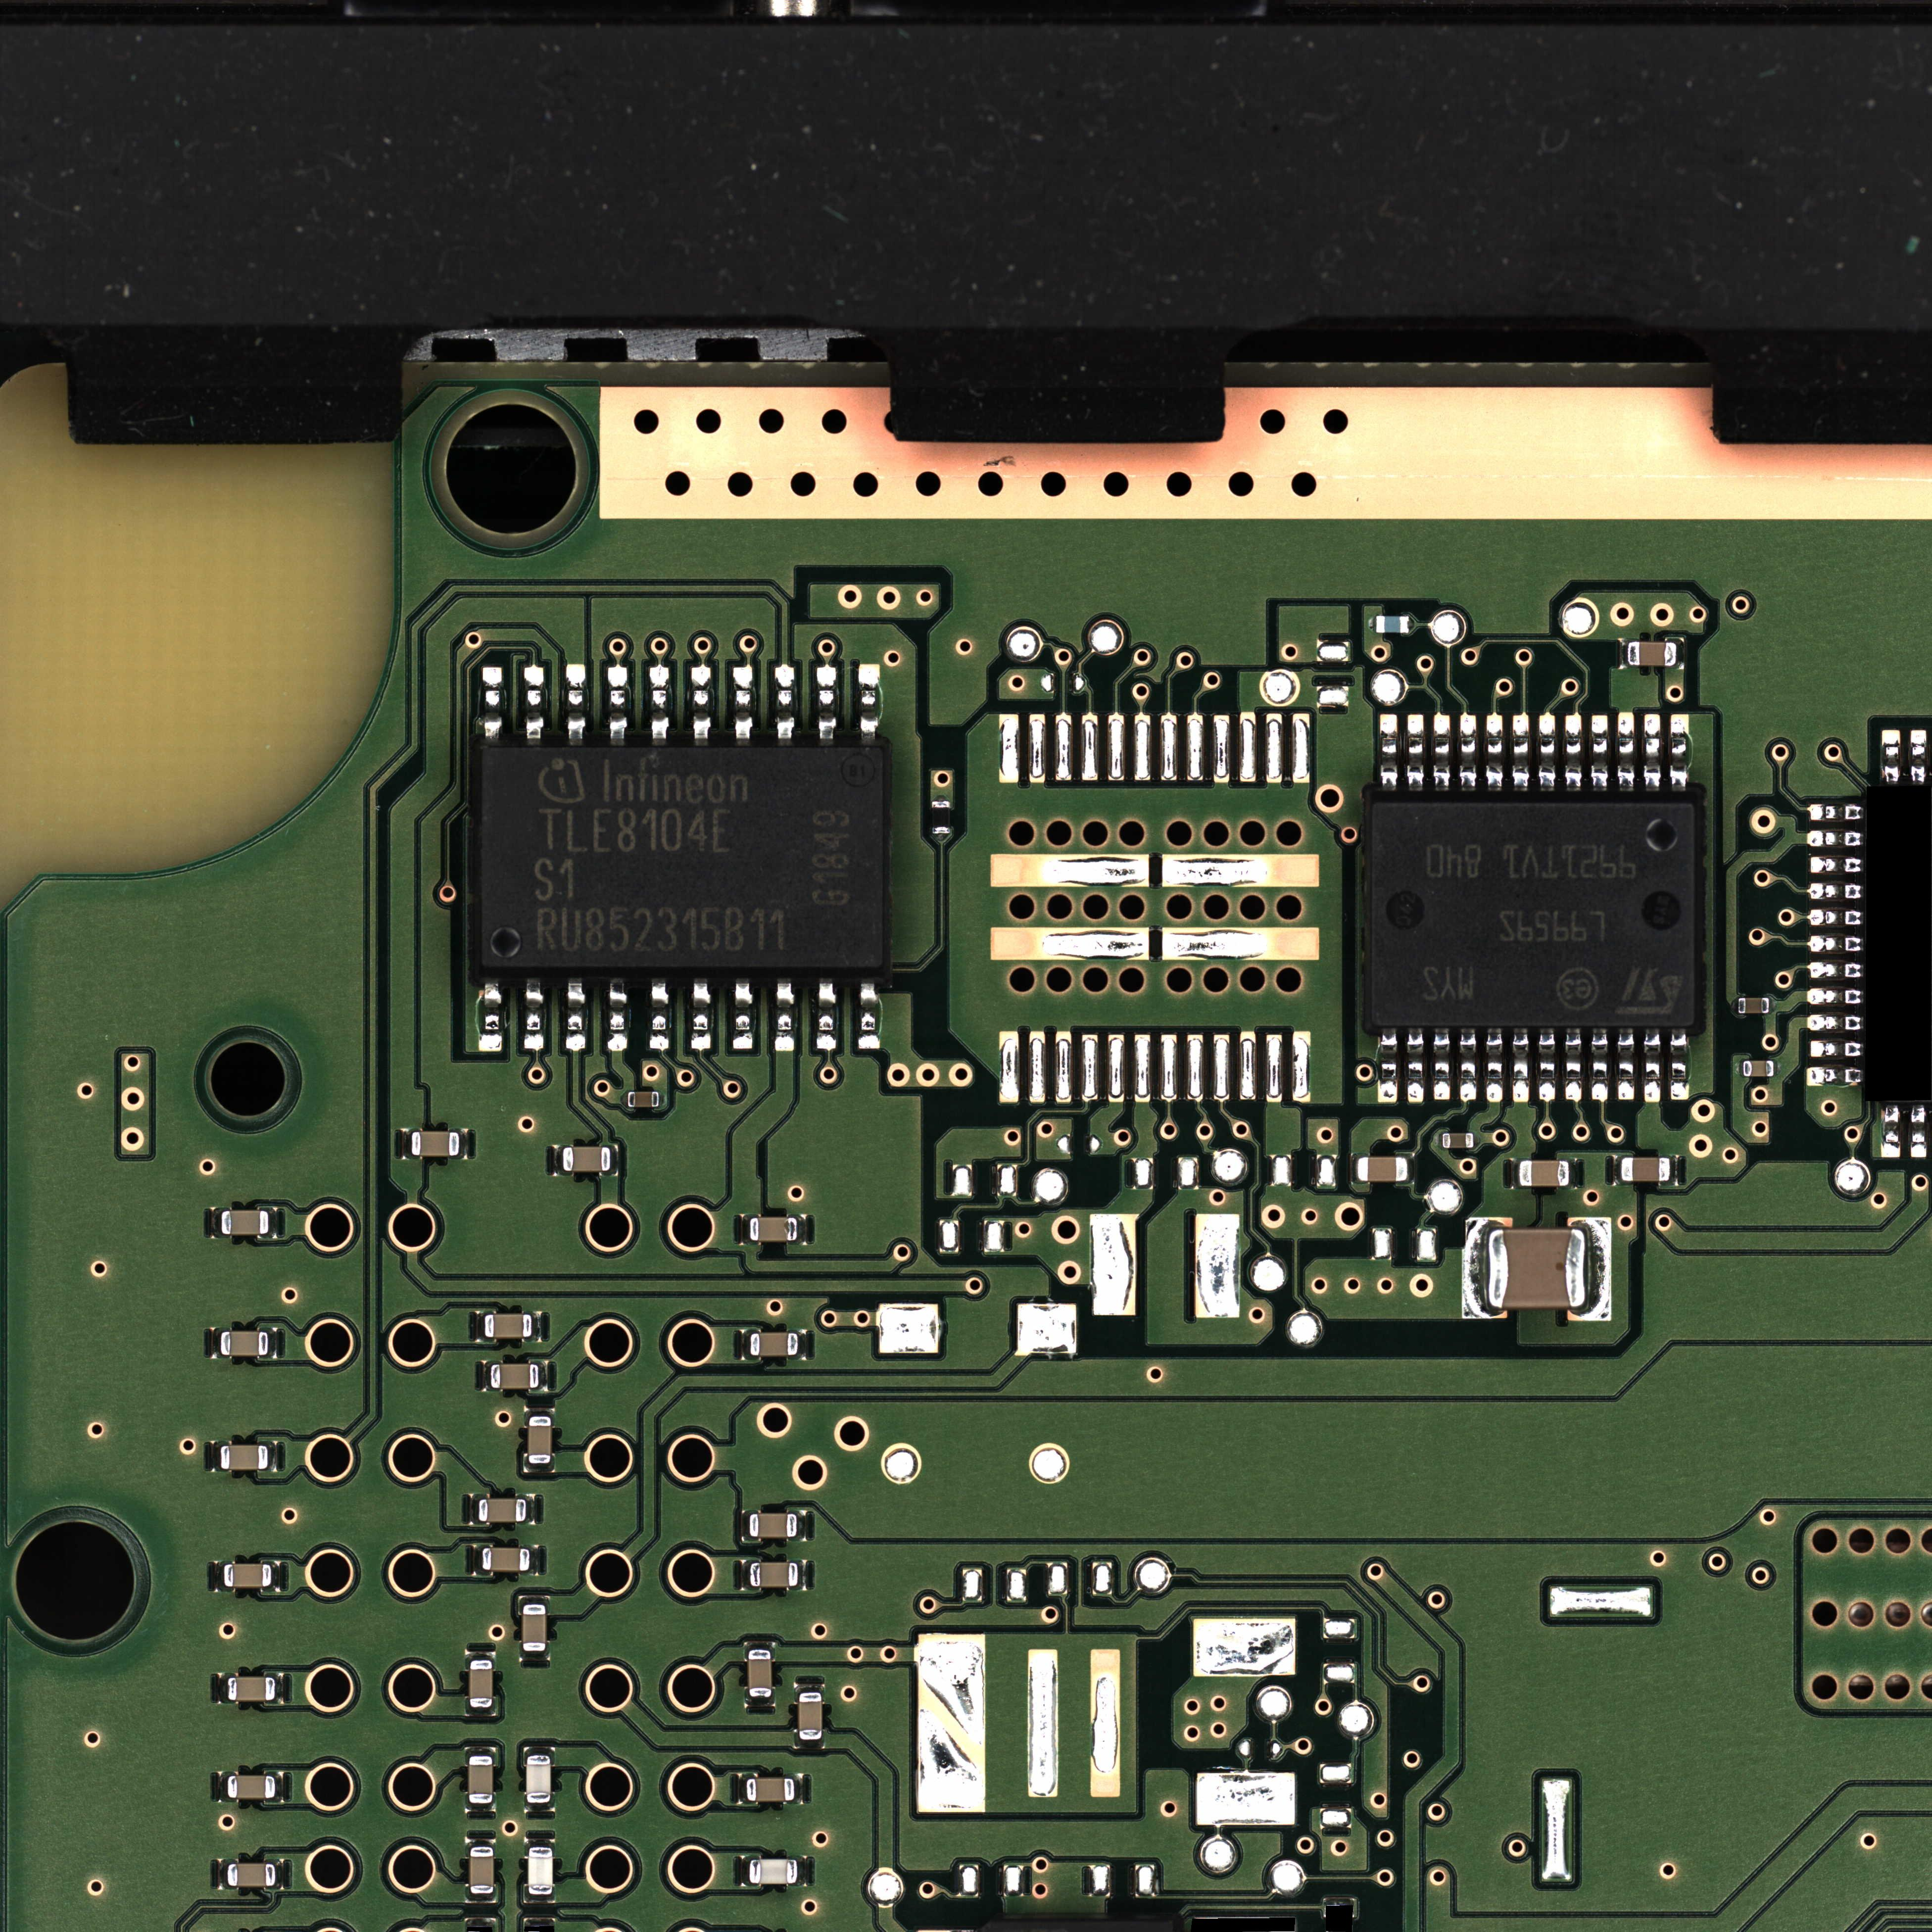Package: (481, 748, 885, 968), (1371, 801, 1695, 1026), (1488, 1228, 1585, 1307), (527, 1847, 554, 1895), (490, 1364, 540, 1389), (1621, 1157, 1670, 1182), (1520, 1161, 1569, 1185), (1359, 1157, 1407, 1182), (525, 1755, 550, 1803), (228, 1775, 276, 1799), (221, 1445, 269, 1470), (221, 1330, 269, 1355), (221, 1210, 269, 1235), (228, 1677, 276, 1702), (748, 1513, 796, 1537), (410, 1131, 458, 1155), (750, 1859, 798, 1884), (750, 1332, 798, 1357), (563, 1146, 610, 1171), (750, 1562, 798, 1587), (228, 1863, 276, 1888), (798, 1691, 823, 1739), (469, 1757, 494, 1803), (750, 1217, 796, 1242), (469, 1847, 494, 1893), (522, 1605, 547, 1651), (527, 1417, 552, 1463), (485, 1315, 533, 1338), (478, 1499, 525, 1522), (469, 1660, 492, 1707), (747, 1778, 794, 1801), (1628, 642, 1675, 665), (483, 1548, 529, 1571), (225, 1564, 271, 1587), (748, 1651, 771, 1697), (932, 801, 950, 833), (1376, 616, 1408, 633), (1737, 998, 1769, 1014), (1442, 1132, 1474, 1148), (628, 1092, 658, 1108), (1743, 1062, 1775, 1076)
Solder: (1587, 1217, 1612, 1322), (1463, 1217, 1488, 1320), (478, 980, 502, 1053), (858, 663, 879, 745), (524, 665, 545, 743), (607, 667, 628, 745), (732, 667, 754, 743), (816, 667, 837, 743), (858, 980, 881, 1049), (1376, 1030, 1398, 1104), (566, 663, 586, 743), (775, 665, 794, 743), (649, 667, 669, 743), (1670, 715, 1690, 791), (692, 667, 711, 743), (607, 982, 628, 1051), (732, 980, 754, 1049), (483, 667, 502, 741), (1617, 711, 1635, 791), (566, 980, 586, 1051), (649, 980, 669, 1051), (817, 980, 837, 1051), (775, 980, 794, 1051), (692, 980, 711, 1051), (1380, 713, 1398, 791), (1460, 713, 1477, 791), (1513, 713, 1530, 791), (1644, 713, 1661, 791), (1670, 1030, 1690, 1100), (1486, 713, 1504, 791), (1407, 715, 1424, 791), (1591, 715, 1608, 791), (1433, 713, 1451, 789), (524, 982, 543, 1051), (1460, 1030, 1477, 1102), (1407, 1030, 1424, 1102), (1644, 1030, 1661, 1102), (1564, 1031, 1582, 1102), (1617, 1030, 1635, 1100), (1433, 1030, 1451, 1100), (1486, 1031, 1504, 1102), (1537, 1031, 1555, 1102), (1591, 1031, 1608, 1102), (1566, 713, 1582, 791), (1539, 713, 1555, 791), (1881, 729, 1902, 786), (1805, 1067, 1863, 1086), (1513, 1031, 1529, 1102), (1881, 1106, 1902, 1159), (1806, 961, 1863, 980), (1806, 934, 1863, 954), (1806, 987, 1863, 1007), (1806, 1014, 1863, 1033), (1806, 1040, 1863, 1060), (1909, 1104, 1928, 1159), (1806, 803, 1865, 821), (1806, 856, 1865, 874), (1806, 830, 1863, 847), (1806, 883, 1863, 901), (1806, 909, 1863, 927), (1909, 729, 1927, 784), (740, 1560, 750, 1591), (1509, 1159, 1520, 1189), (522, 1895, 556, 1904), (465, 1918, 499, 1927), (524, 1803, 556, 1812), (465, 1895, 497, 1904), (465, 1746, 497, 1755), (524, 1746, 556, 1755), (533, 1311, 541, 1343), (741, 1214, 750, 1246), (794, 1773, 803, 1805), (476, 1311, 485, 1343), (212, 1207, 221, 1238), (465, 1707, 495, 1716), (525, 1838, 556, 1847), (465, 1838, 495, 1847), (1619, 639, 1628, 669), (465, 1651, 495, 1660), (1569, 1159, 1578, 1189), (1612, 1155, 1621, 1185), (794, 1741, 824, 1750), (745, 1642, 775, 1651), (540, 1361, 548, 1391), (798, 1511, 807, 1541), (798, 1330, 807, 1361), (798, 1560, 807, 1591), (520, 1652, 550, 1661), (472, 1545, 481, 1575), (518, 1596, 548, 1605), (798, 1856, 807, 1886), (525, 1407, 554, 1415), (738, 1775, 747, 1803), (741, 1330, 750, 1359), (219, 1771, 226, 1803), (212, 1327, 219, 1359), (216, 1560, 223, 1592), (471, 1493, 478, 1525), (798, 1214, 805, 1246), (556, 1145, 563, 1177), (524, 1918, 556, 1925), (524, 1465, 554, 1472), (465, 1805, 495, 1812), (219, 1859, 226, 1890), (403, 1129, 410, 1159), (741, 1511, 748, 1541), (794, 1684, 824, 1691), (1677, 639, 1684, 669), (460, 1129, 467, 1159), (1408, 1154, 1415, 1184), (219, 1674, 226, 1704), (745, 1698, 775, 1706), (531, 1545, 538, 1575), (1670, 1155, 1677, 1185), (276, 1859, 283, 1890), (483, 1361, 490, 1391), (741, 1856, 748, 1886), (527, 1495, 534, 1525), (610, 1145, 617, 1175), (1350, 1154, 1357, 1184), (272, 1560, 280, 1591), (212, 1442, 219, 1472), (276, 1771, 283, 1801), (269, 1442, 276, 1472), (269, 1329, 276, 1357), (276, 1674, 283, 1702), (269, 1208, 276, 1237), (931, 833, 952, 842), (1323, 1898, 1357, 1904), (1368, 616, 1376, 633), (1736, 1058, 1743, 1077), (932, 794, 952, 801), (1775, 1060, 1782, 1077), (658, 1092, 665, 1109), (621, 1090, 628, 1108), (1408, 616, 1415, 633), (1474, 1132, 1481, 1148), (1435, 1132, 1442, 1148), (1769, 998, 1776, 1014), (1732, 998, 1737, 1014)
